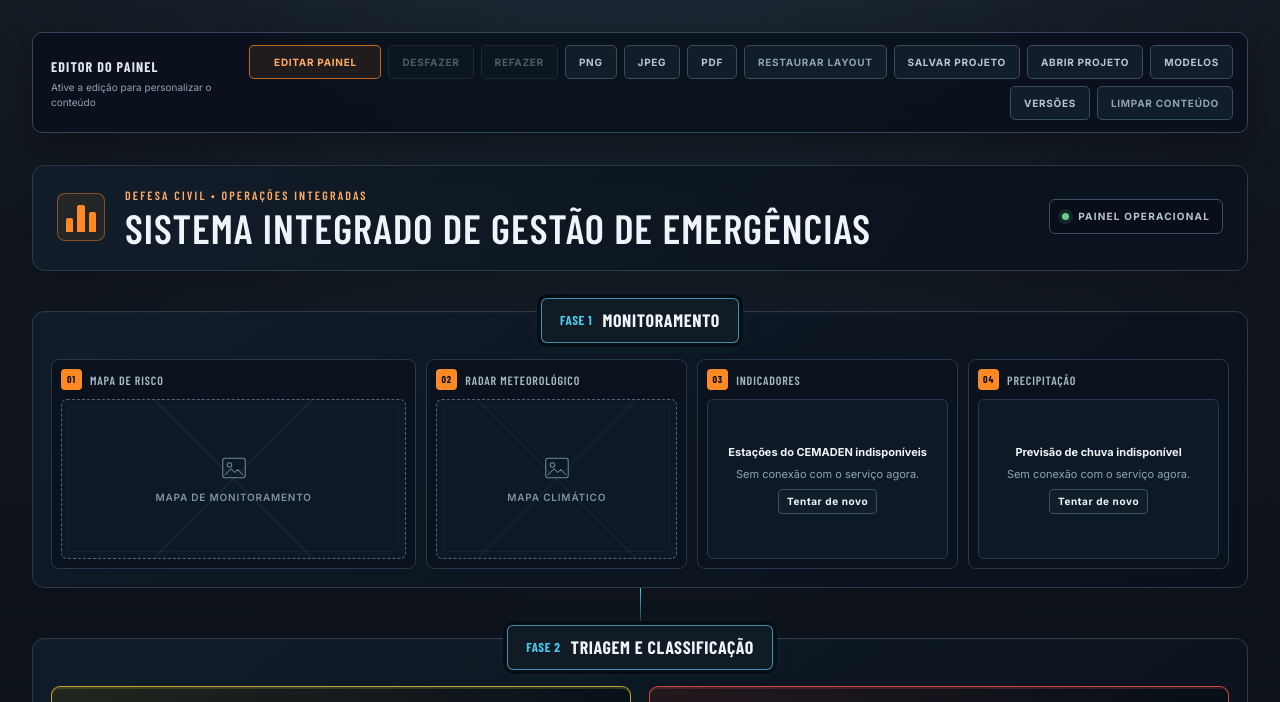
Test: modelos › o modelo Padrão restaura os textos originais
Click the button "MODELOS" at (1192, 62), box [1150,45,1233,79]
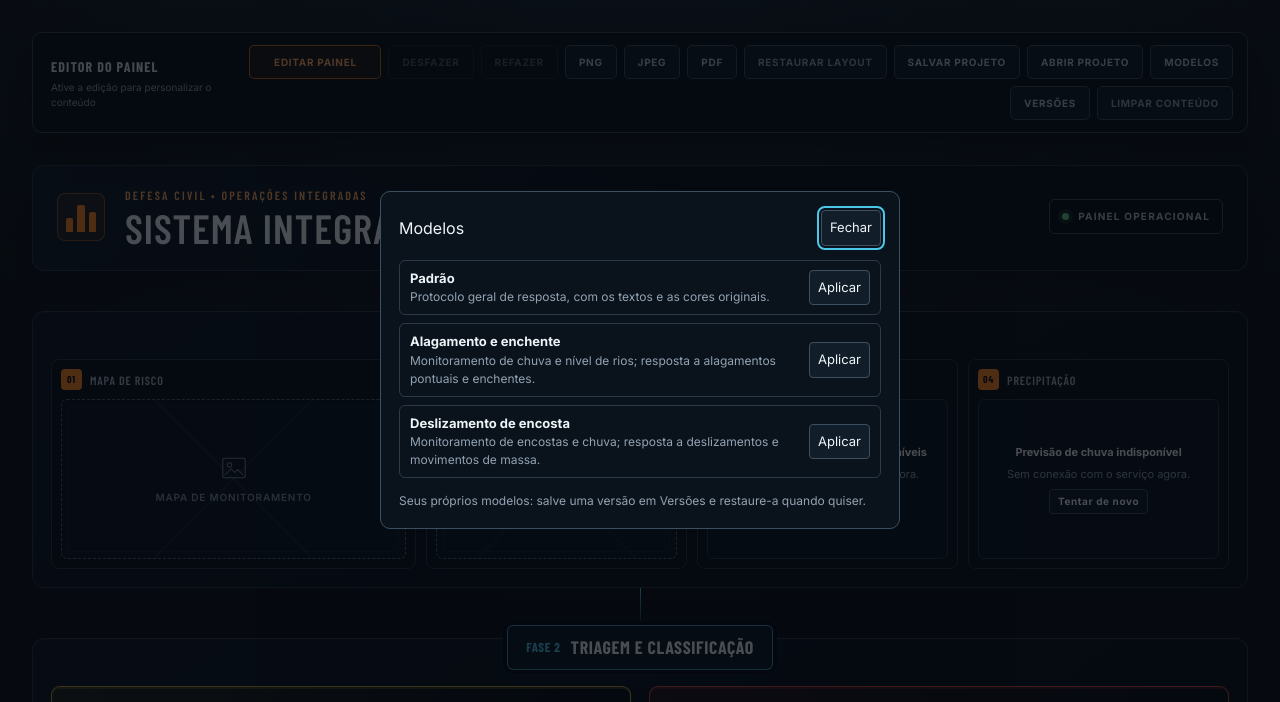
Click the button with aria-label "Aplicar Deslizamento de encosta" at (840, 441), box [809,424,870,459]
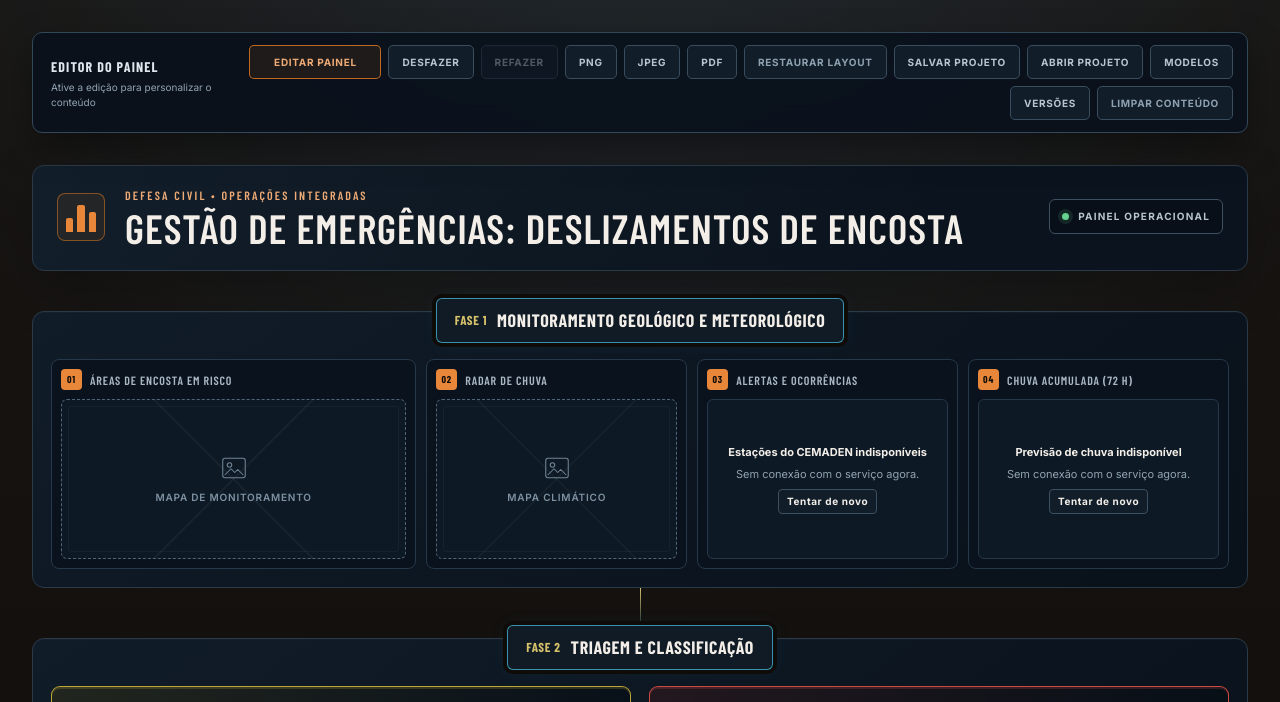
Click the button "MODELOS" at (1192, 62), box [1150,45,1233,79]
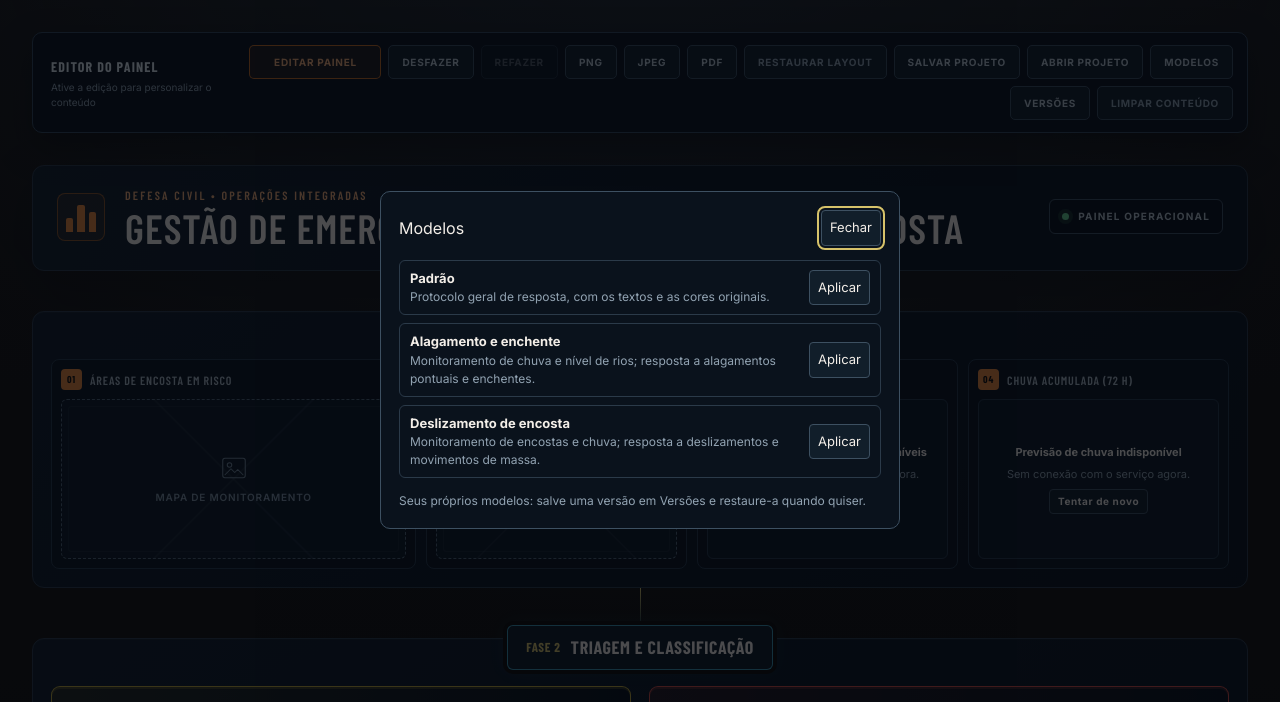
Click the button with aria-label "Aplicar Padrão" at (840, 287), box [809,270,870,305]
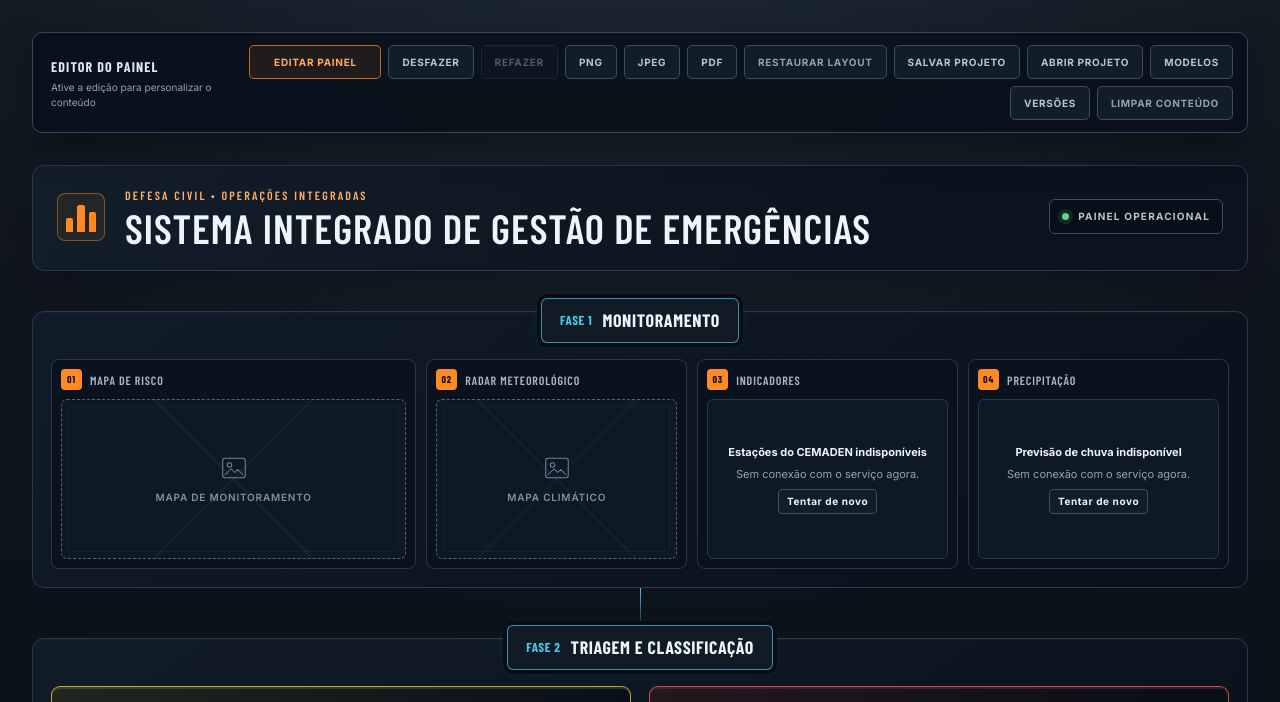
Expected: the text "MAPA DE RISCO" is shown, [90,371,164,389]
